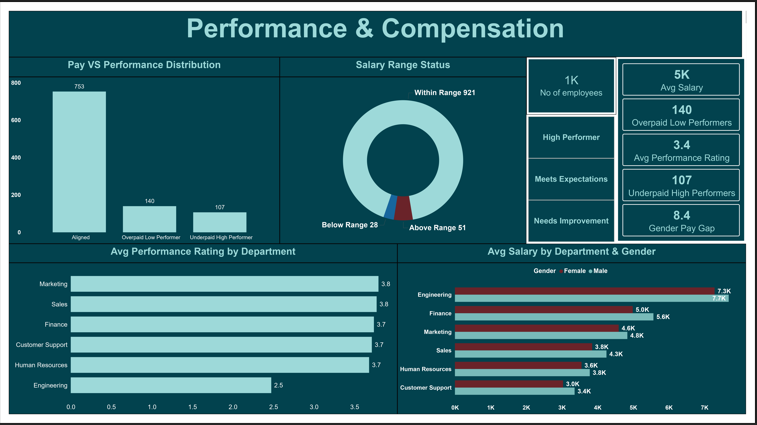

This screenshot's page, from the dashboard's own definition file:
{"tool":"powerbi","page":{"name":"Performance & Compensation","canvas":[2011,1100],"ordinal":5},"visuals":[{"type":"clusteredBarChart","fields":{"Category":["Compensation & performance.department_name"],"Y":["Compensation & performance.Avg Salary"],"Series":["Compensation & performance.gender"]},"box":[1059.6,686.9,951.8,413.1],"z":0},{"type":"textbox","box":[0,516,299,584],"z":1000},{"type":"textbox","box":[1059.6,635.3,951.8,51.6],"z":2000},{"type":"clusteredBarChart","fields":{"Y":["Compensation & performance.Avg Performance Rating"],"Category":["Compensation & performance.department_name"]},"box":[0,686.9,1059.6,413.1],"z":3000},{"type":"textbox","box":[0,635.3,1059.6,51.6],"z":4000},{"type":"columnChart","fields":{"Category":["Compensation & performance.pay_performance_flag"],"Y":["Compensation & performance.No of employees"]},"box":[0,179.6,738.6,455.7],"z":5000},{"type":"textbox","box":[0,0,2000.2,125.7],"z":6000},{"type":"textbox","box":[0,125.7,738.6,53.9],"z":7000},{"type":"donutChart","fields":{"Category":["Compensation & performance.salary_range_status"],"Y":["Compensation & performance.No of employees"]},"box":[738.6,179.6,673.5,455.7],"z":8000},{"type":"textbox","box":[738.6,125.7,673.5,53.9],"z":9000},{"type":"cardVisual","fields":{"Data":["Compensation & performance.Avg Salary","Compensation & performance.Overpaid Low Performers","Compensation & performance.Avg Performance Rating","Compensation & performance.Underpaid High Performers","Compensation & performance.Gender Pay Gap"]},"box":[1656.7,125.7,354.7,509.6],"z":10000},{"type":"cardVisual","fields":{"Data":["Compensation & performance.No of employees"]},"box":[1412,125.7,244.7,157.1],"z":11000},{"type":"listSlicer","fields":{"Values":["Compensation & performance.performance_category"]},"box":[1412,282.9,244.7,352.4],"z":12000}]}

Visuals, with their boxes in screenshot pixels (x1, y1, x2, y2), scaled from the page's 2011x1100 canvas onto the 757x425 screenshot:
clusteredBarChart - Compensation & performance.department_name x Compensation & performance.Avg Salary: BBox(399, 265, 756, 424)
textbox: BBox(0, 199, 113, 424)
textbox: BBox(399, 245, 756, 265)
clusteredBarChart - Compensation & performance.Avg Performance Rating x Compensation & performance.department_name: BBox(0, 265, 399, 424)
textbox: BBox(0, 245, 399, 265)
columnChart - Compensation & performance.pay_performance_flag x Compensation & performance.No of employees: BBox(0, 69, 278, 245)
textbox: BBox(0, 0, 753, 49)
textbox: BBox(0, 49, 278, 69)
donutChart - Compensation & performance.salary_range_status x Compensation & performance.No of employees: BBox(278, 69, 532, 245)
textbox: BBox(278, 49, 532, 69)
cardVisual - Compensation & performance.Avg Salary x Compensation & performance.Overpaid Low Performers: BBox(624, 49, 756, 245)
cardVisual - Compensation & performance.No of employees: BBox(532, 49, 624, 109)
listSlicer - Compensation & performance.performance_category: BBox(532, 109, 624, 245)
